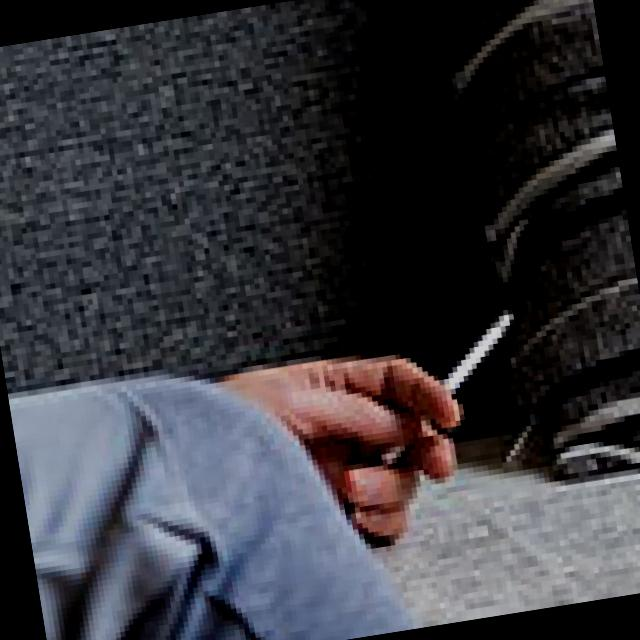smoke: (432, 314, 528, 396)
